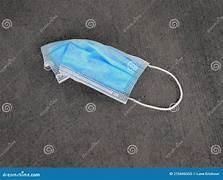Mask: (41, 39, 182, 110)
